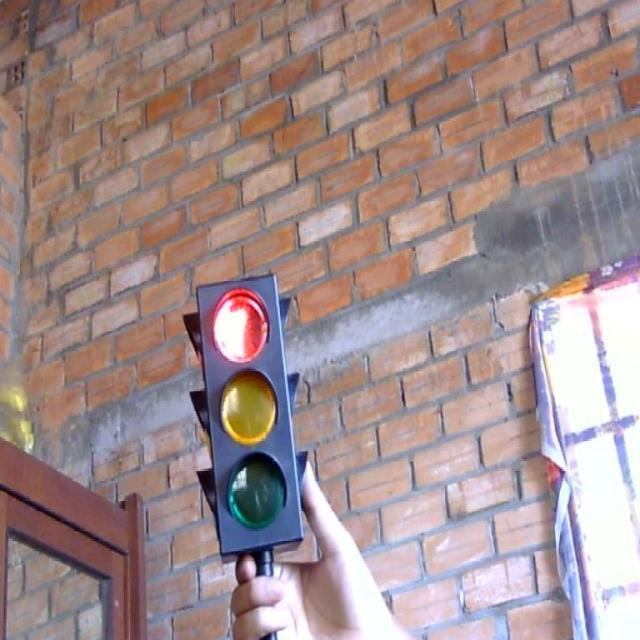red light: (208, 277, 284, 372)
